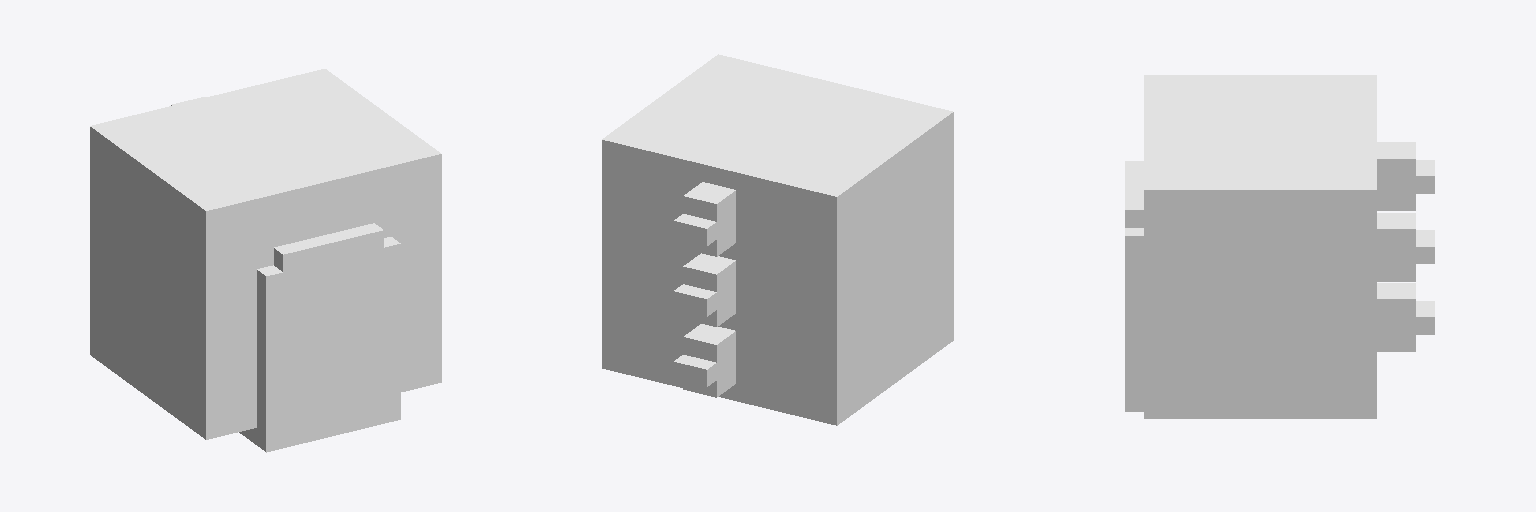
File: Dragon_large-10.obj
The picture shows the model from 3 angles: view 1: azimuth 30°, elevation 25°; view 2: azimuth 150°, elevation 25°; view 3: azimuth 270°, elevation 25°; orthographic projection.
Parts seen in each view (by area): view 1: object 1; view 2: object 1; view 3: object 1.
Part boxes in pixels (bbox=[...]): object 1: bbox=[90, 69, 441, 452]; object 1: bbox=[602, 54, 953, 425]; object 1: bbox=[1125, 75, 1434, 418].
Size of the model in its own units: 1.4 by 1.4 by 1.6.